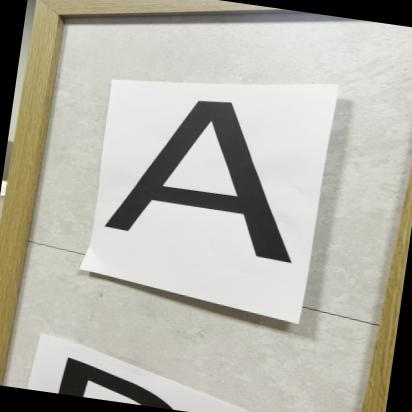seat: (85, 82, 326, 280)
